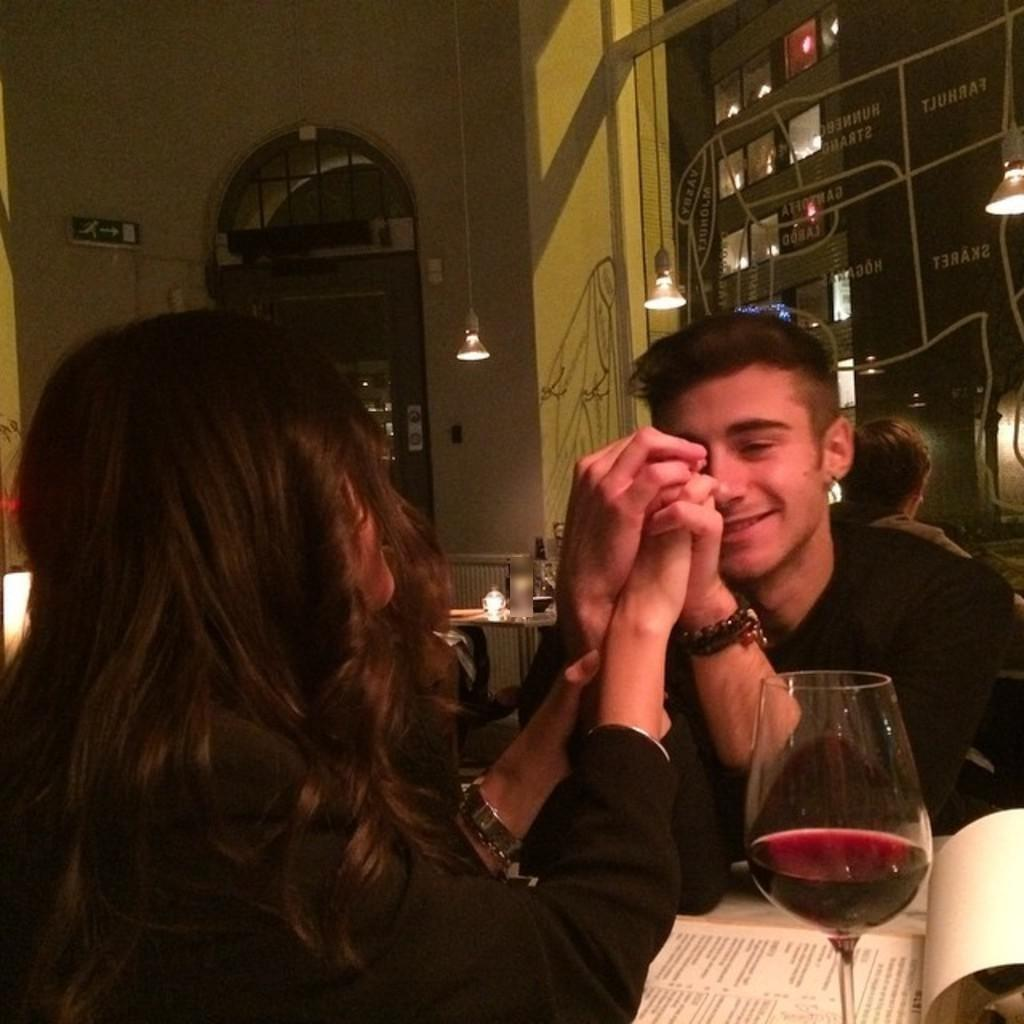glass-wine: (740, 672, 933, 1023)
